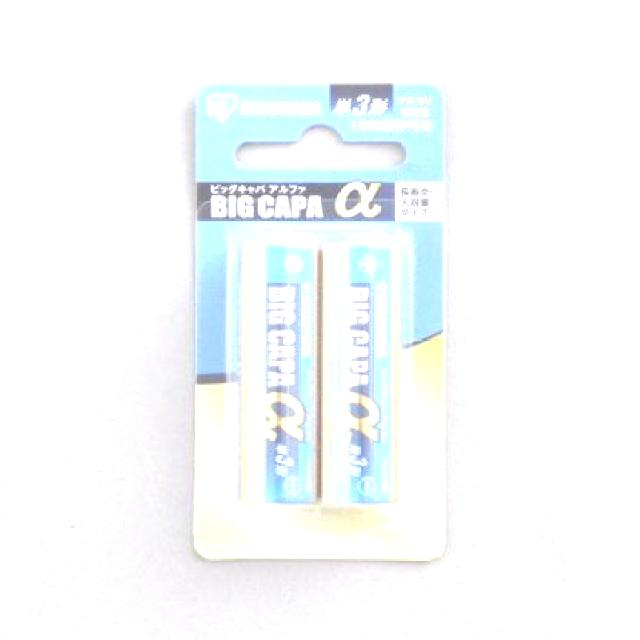AA: (316, 234, 406, 511), (236, 235, 318, 510)
